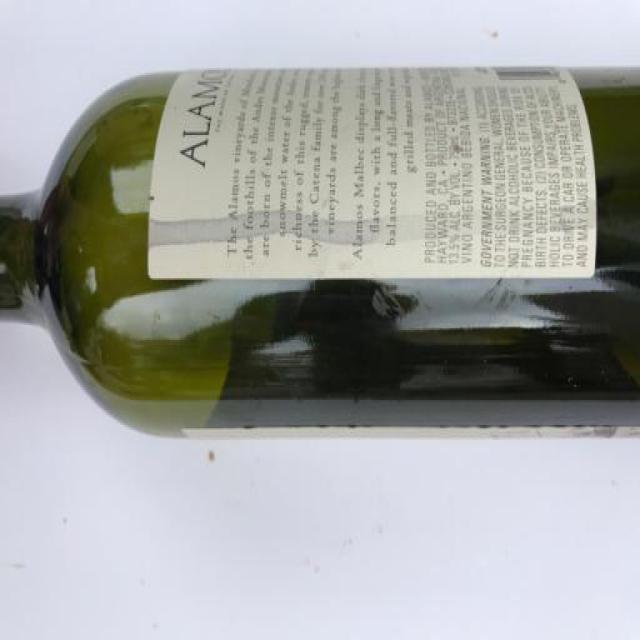glass: (0, 32, 640, 498)
